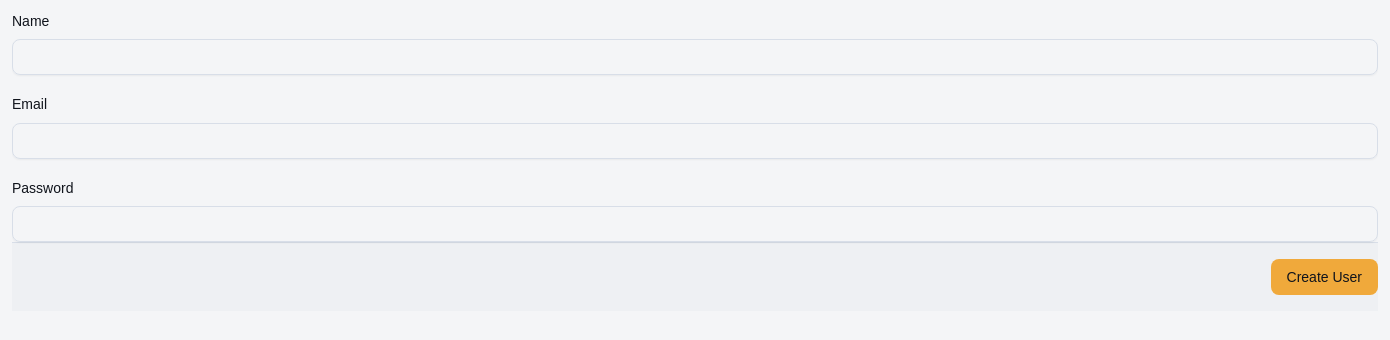
Test: CreateUserForm › shows a validation error and blocks submission when the name is too short
The image size is (1390, 340).
Type "Al" into the field labelled "Name" at {"x": 695, "y": 57}, box left=12, top=39, right=1378, bottom=75
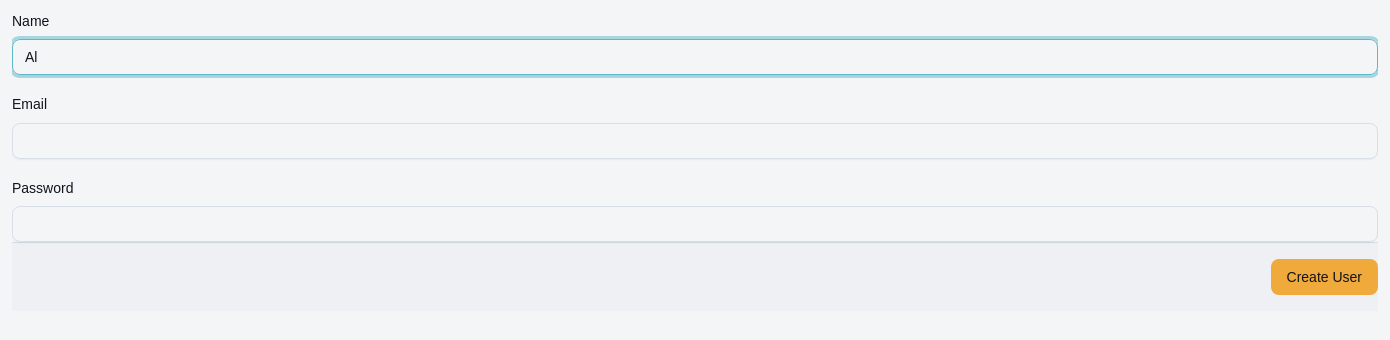
Type "ada@example.com" into the field labelled "Email" at {"x": 695, "y": 140}, box left=12, top=122, right=1378, bottom=158
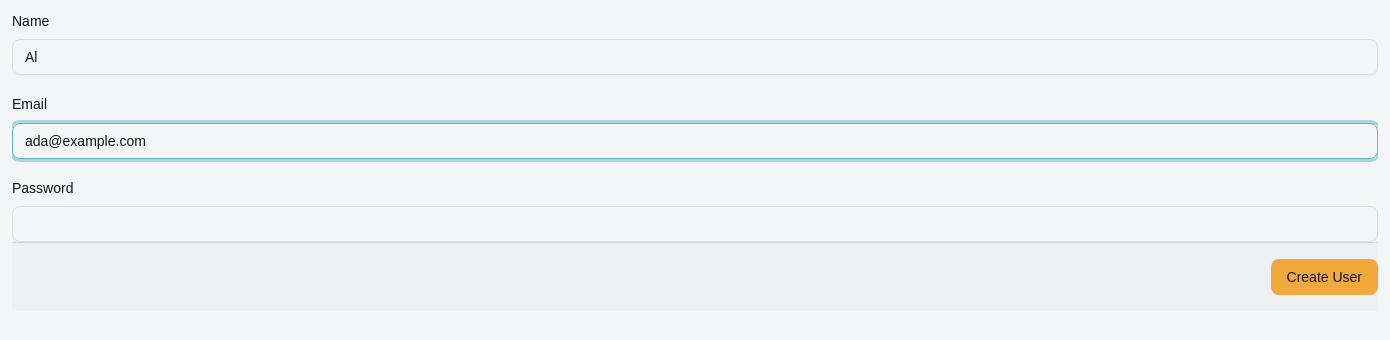
Type "password123" into the password field labelled "Password" at {"x": 695, "y": 224}, box left=12, top=206, right=1378, bottom=242
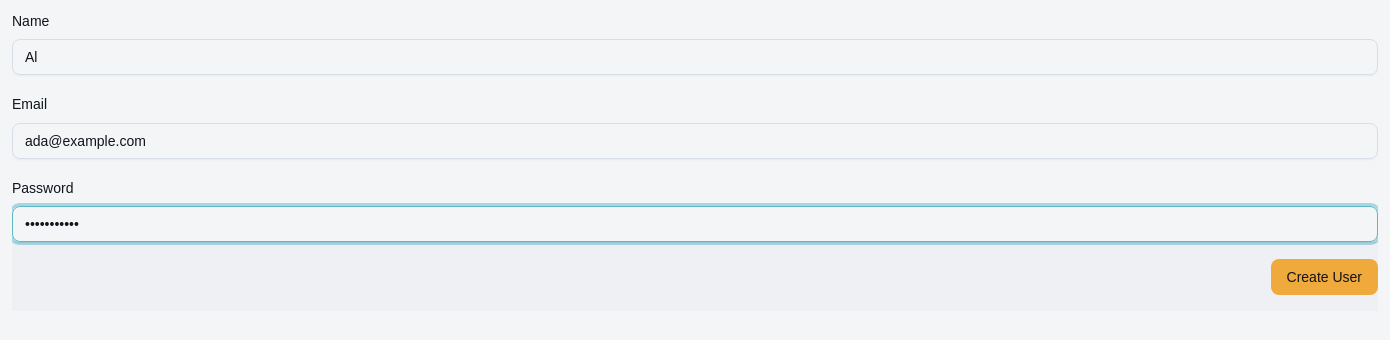
Click the button "Create User" at {"x": 1324, "y": 277}, box left=1270, top=259, right=1378, bottom=295
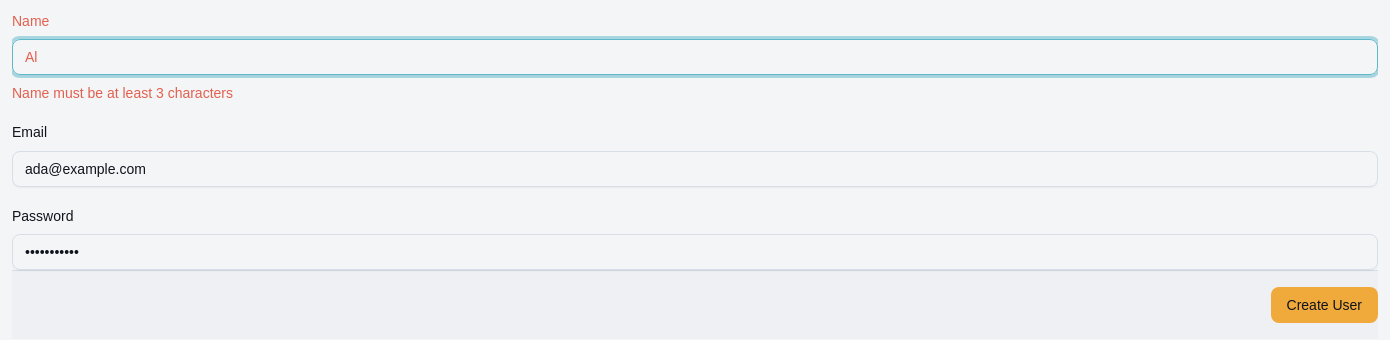
Expected: the text "Name must be at least 3 characters" is shown, left=12, top=85, right=233, bottom=101
